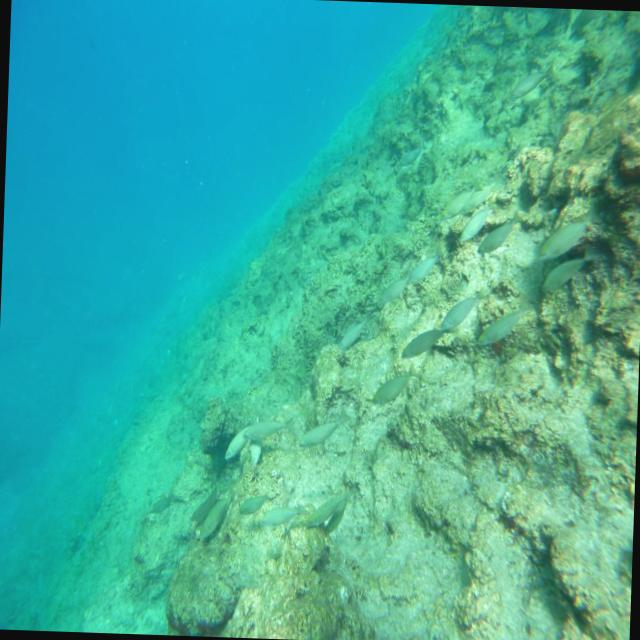Sokar Baligi: (474, 300, 530, 356), (294, 407, 346, 461)
